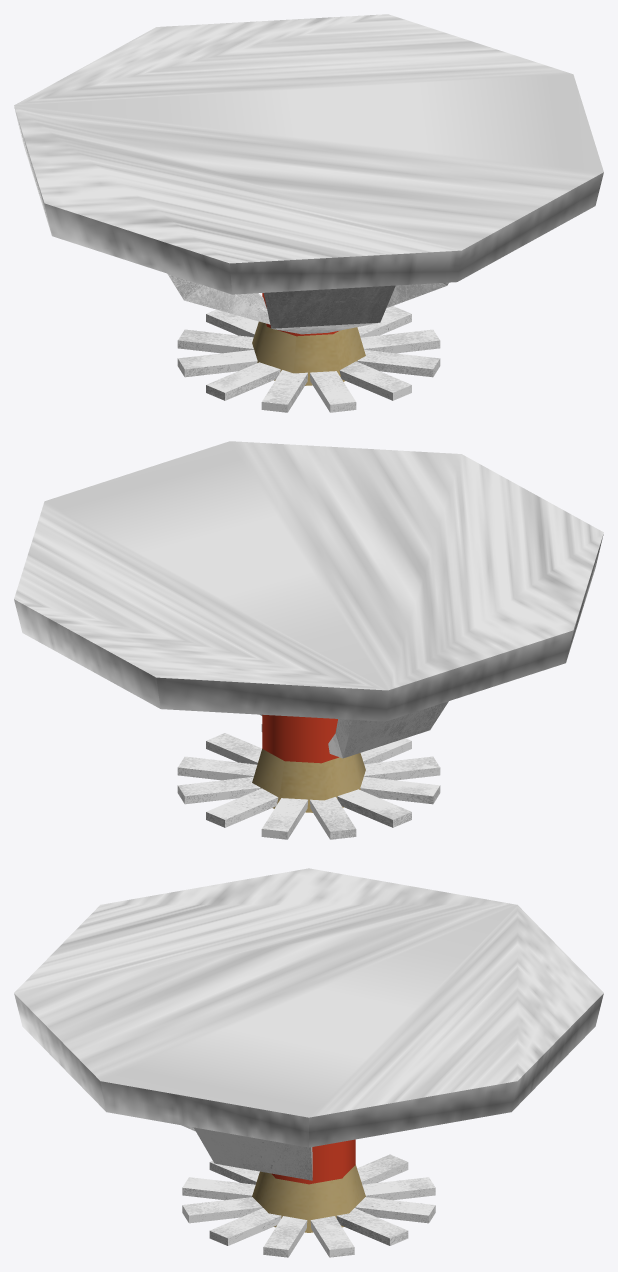
File: Sprinkler.fbx
3 renders of one model, top to bottom at view 1: azimuth 30°, elevation 25°; view 2: azimuth 150°, elevation 25°; view 3: azimuth 270°, elevation 25°, orthographic. The views are drawn at different scales.
Visible parts, largest first — view 1: Sprinkler; view 2: Sprinkler; view 3: Sprinkler.
Boxes of the visible parts, <box> form: Sprinkler: <box>14,14,603,412</box>; Sprinkler: <box>14,441,603,839</box>; Sprinkler: <box>14,868,603,1257</box>.
Size of the model in its own units: 14.45 by 5.8 by 14.45.
